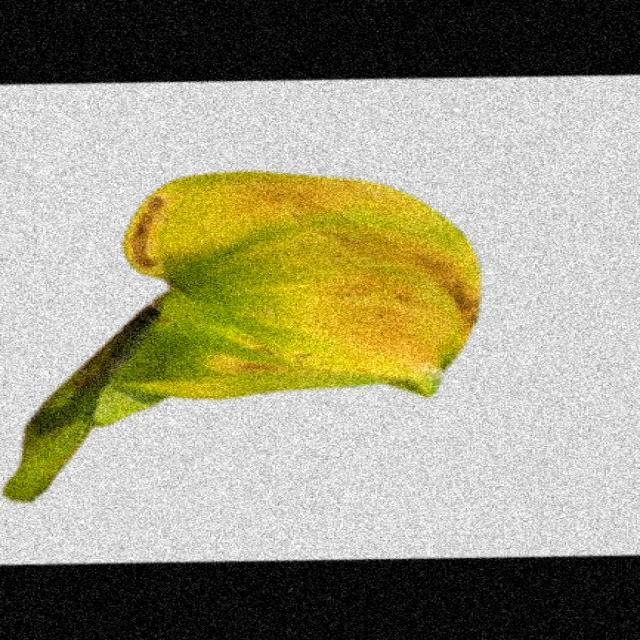daun berpenyakit kuning: (3, 171, 478, 501)
